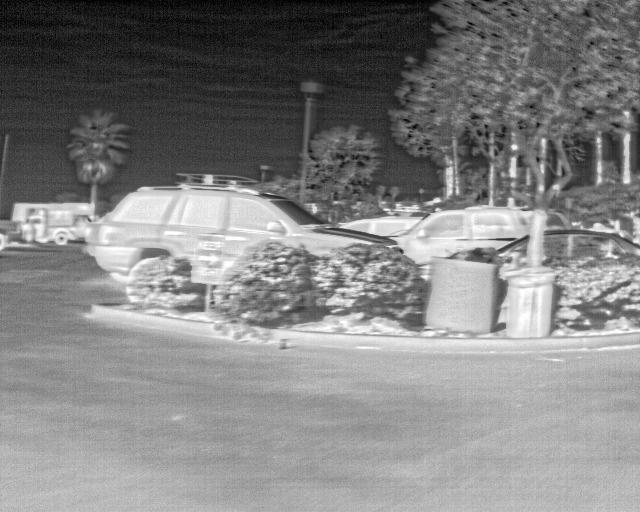car: (94, 181, 398, 312), (10, 202, 93, 247), (419, 208, 528, 237), (545, 228, 636, 259), (347, 214, 422, 239), (498, 234, 526, 263)
